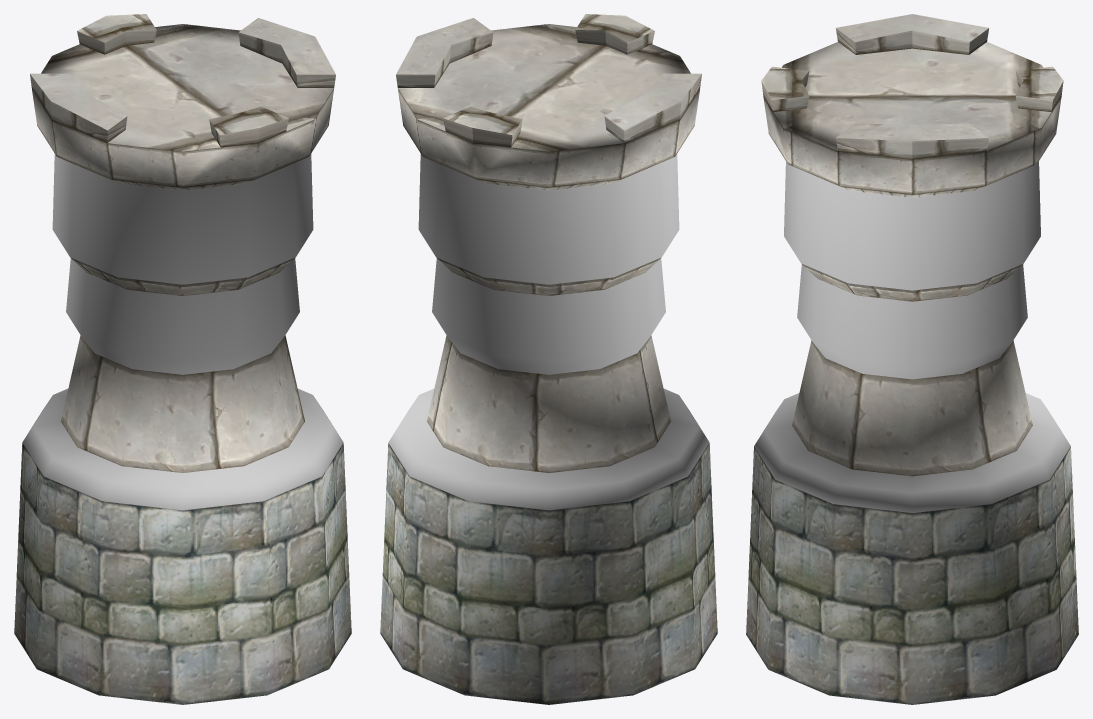
File: wallpost01.obj
3 views of the same model, side by side, from view 1: azimuth 30°, elevation 25°; view 2: azimuth 150°, elevation 25°; view 3: azimuth 270°, elevation 25° (orthographic).
Parts seen in each view (by area): view 1: WallPost01; view 2: WallPost01; view 3: WallPost01.
Boxes of the visible parts, x1=… form: WallPost01: x1=14, y1=14, x2=351, y2=704; WallPost01: x1=380, y1=14, x2=717, y2=704; WallPost01: x1=746, y1=14, x2=1078, y2=704.
Bounding box in the file's own units: 20.93 × 38.66 × 20.93.
